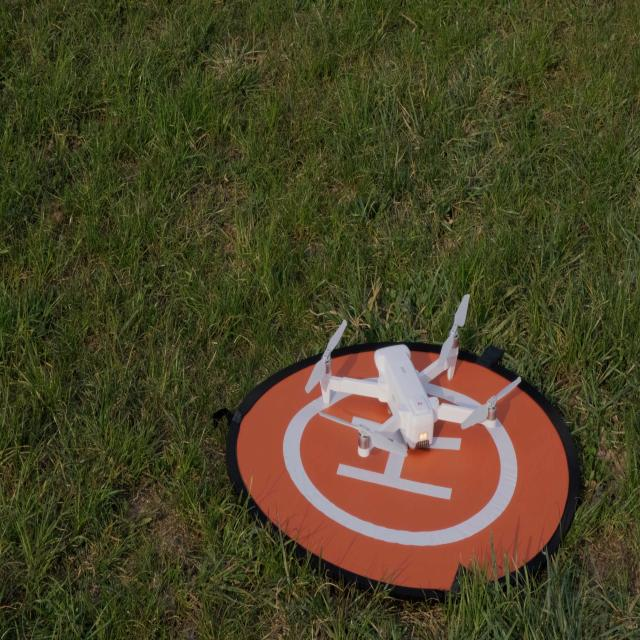drone: (304, 292, 522, 460)
